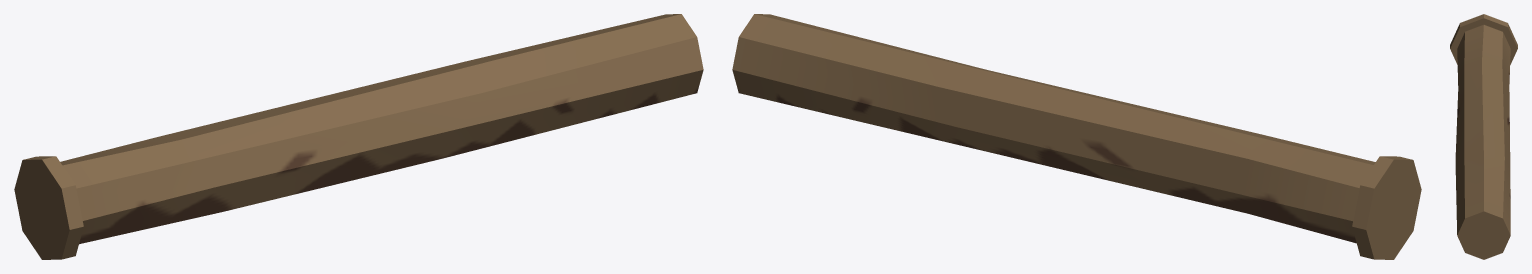
File: SM_Prop_Pipe_01_Straight_02.fbx
The picture shows the model from 3 angles, left to right: view 1: azimuth 30°, elevation 25°; view 2: azimuth 150°, elevation 25°; view 3: azimuth 270°, elevation 25°; orthographic projection. The views are drawn at different scales.
Visible parts, largest first — view 1: SM_Prop_Pipe_01_Straight_02; view 2: SM_Prop_Pipe_01_Straight_02; view 3: SM_Prop_Pipe_01_Straight_02.
Part boxes in pixels (bbox=[...]): SM_Prop_Pipe_01_Straight_02: bbox=[14, 14, 703, 259]; SM_Prop_Pipe_01_Straight_02: bbox=[732, 14, 1421, 259]; SM_Prop_Pipe_01_Straight_02: bbox=[1450, 14, 1517, 259].
Size of the model in its own units: 253 by 37.9 by 37.9.
